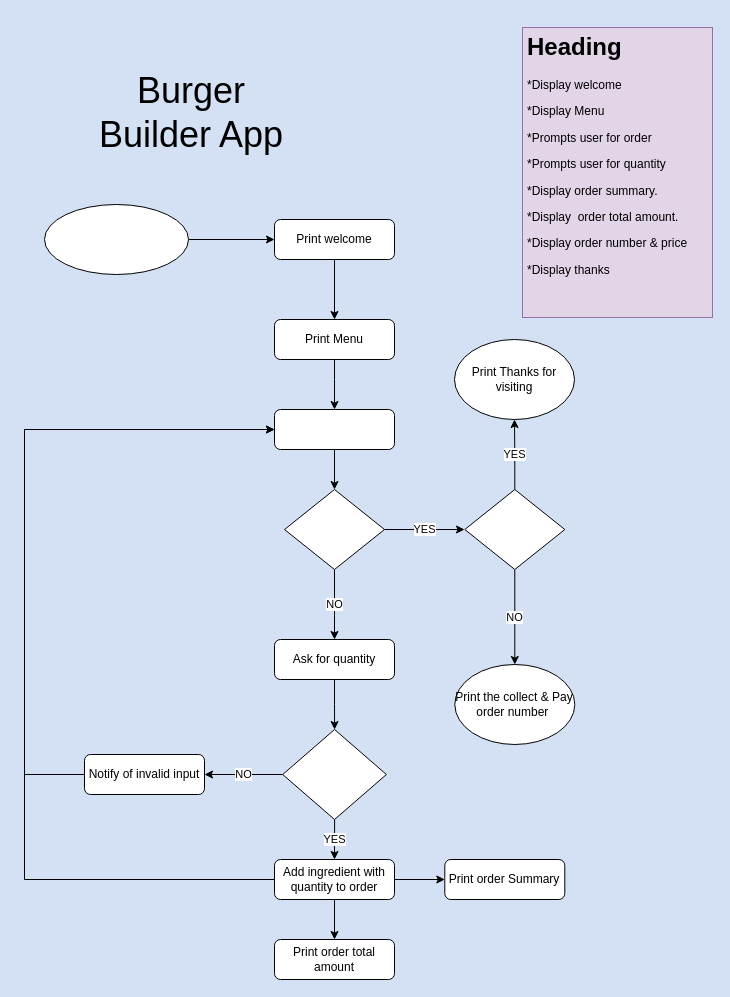
This 730x997 diagram has some shape labels left out. The box of each missing label's shape, as (x1, y1, x2, y2) in pixels:
Ask for ordering Ingredient: (274, 408, 394, 450)
Done?: (284, 488, 384, 570)
Is Order Empty?: (464, 488, 565, 570)
Ruby_burger_buider.rb: (44, 204, 188, 274)
Valid Quantity?: (282, 728, 386, 820)
